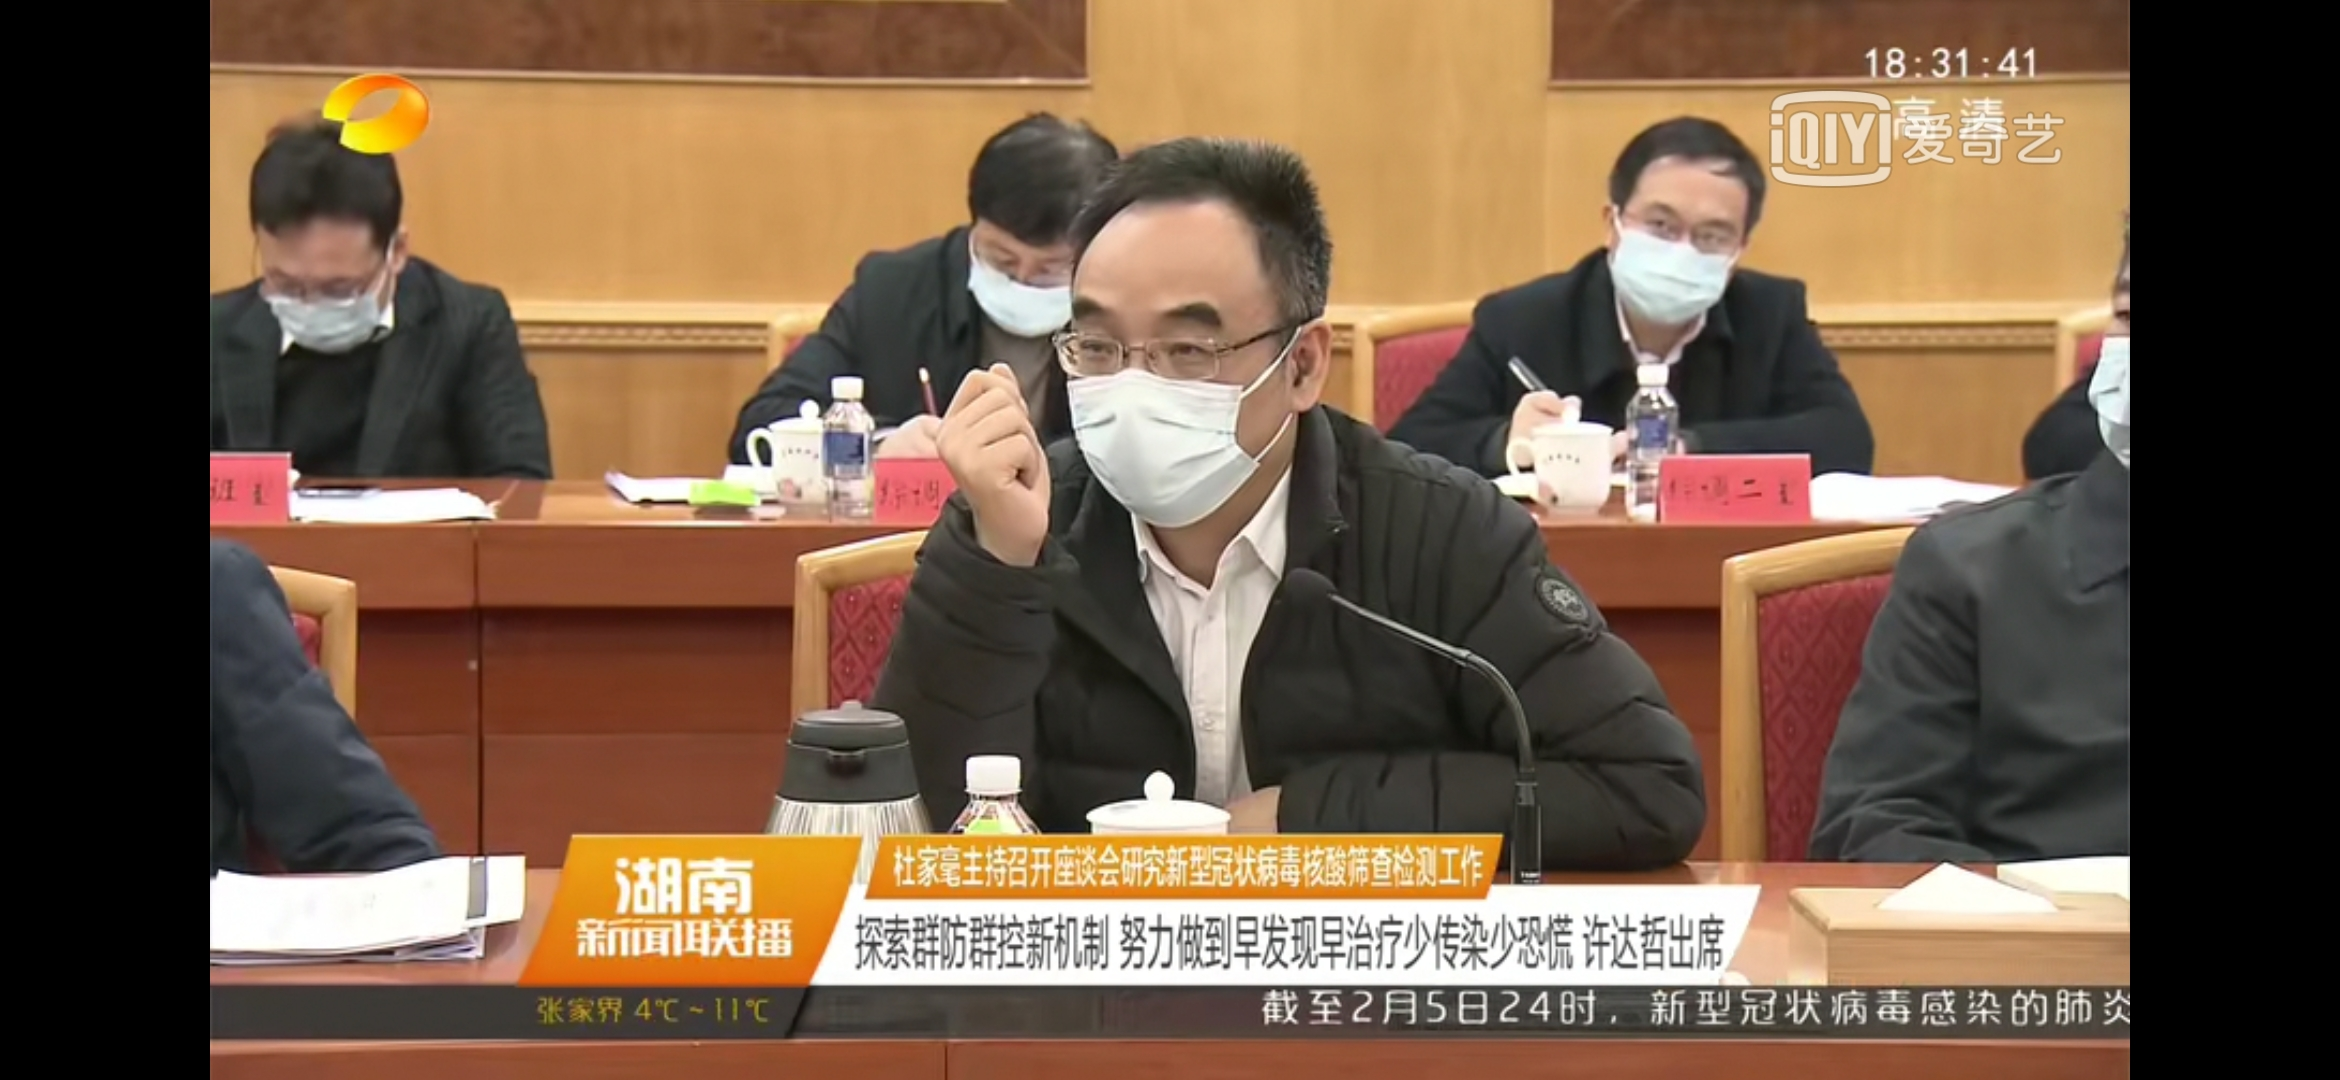correctlyWear: (1055, 169, 1336, 524), (239, 118, 410, 354), (1603, 113, 1762, 324), (954, 106, 1074, 336), (2089, 260, 2130, 480)
